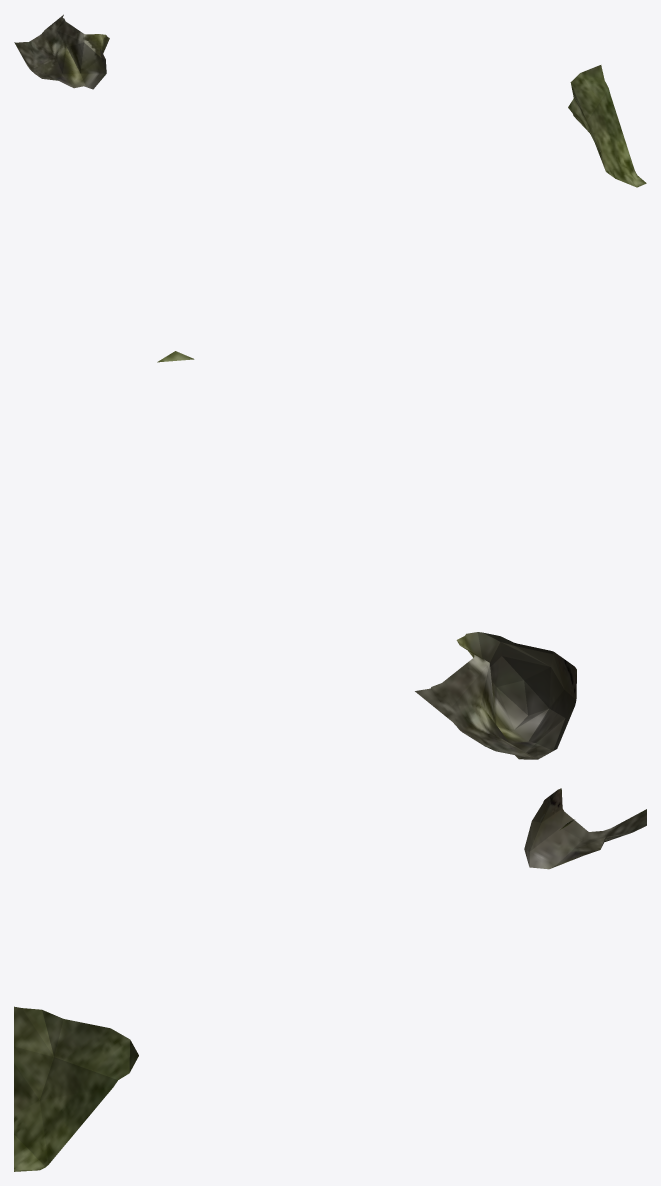
3 views of the same model, one above another, from view 1: azimuth 30°, elevation 25°; view 2: azimuth 150°, elevation 25°; view 3: azimuth 270°, elevation 25° (orthographic). The views are drawn at different scales.
Size of the model in its own units: 2.95 by 0.611 by 2.95.
Materials: 1 (1 with a texture image).
